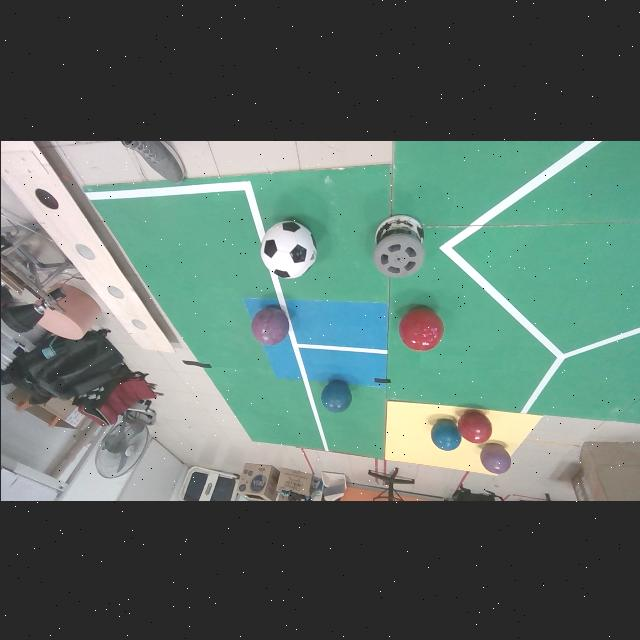B: (429, 418, 461, 450), (320, 379, 351, 412)
P: (251, 305, 288, 344), (479, 442, 510, 473)
R: (398, 307, 443, 351), (457, 410, 491, 442)
